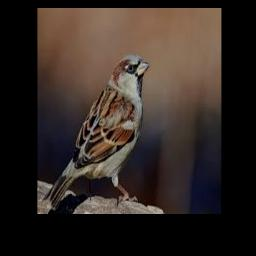Sparrow: (50, 54, 149, 211)
